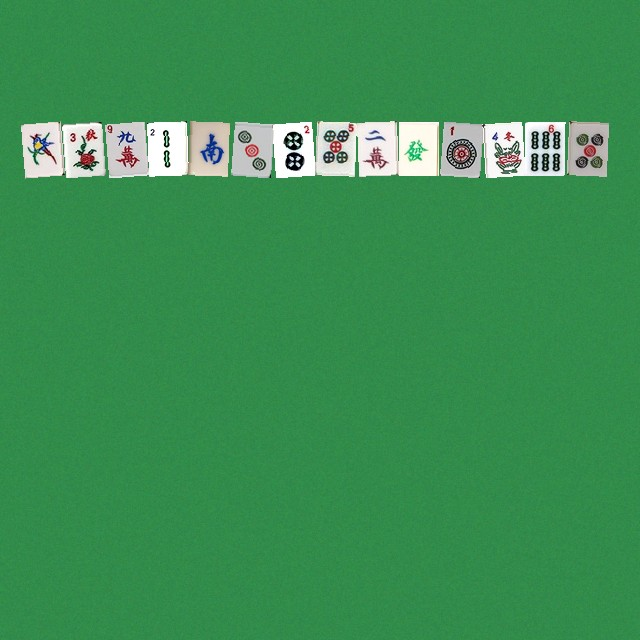tile: (20, 121, 60, 175), (62, 121, 102, 175), (104, 121, 144, 175), (146, 121, 186, 175), (188, 121, 228, 175), (230, 121, 270, 175), (272, 121, 312, 175), (314, 121, 354, 175), (356, 121, 396, 175), (398, 121, 438, 175), (440, 121, 480, 175), (482, 121, 522, 175), (524, 121, 564, 175), (566, 121, 606, 175)
